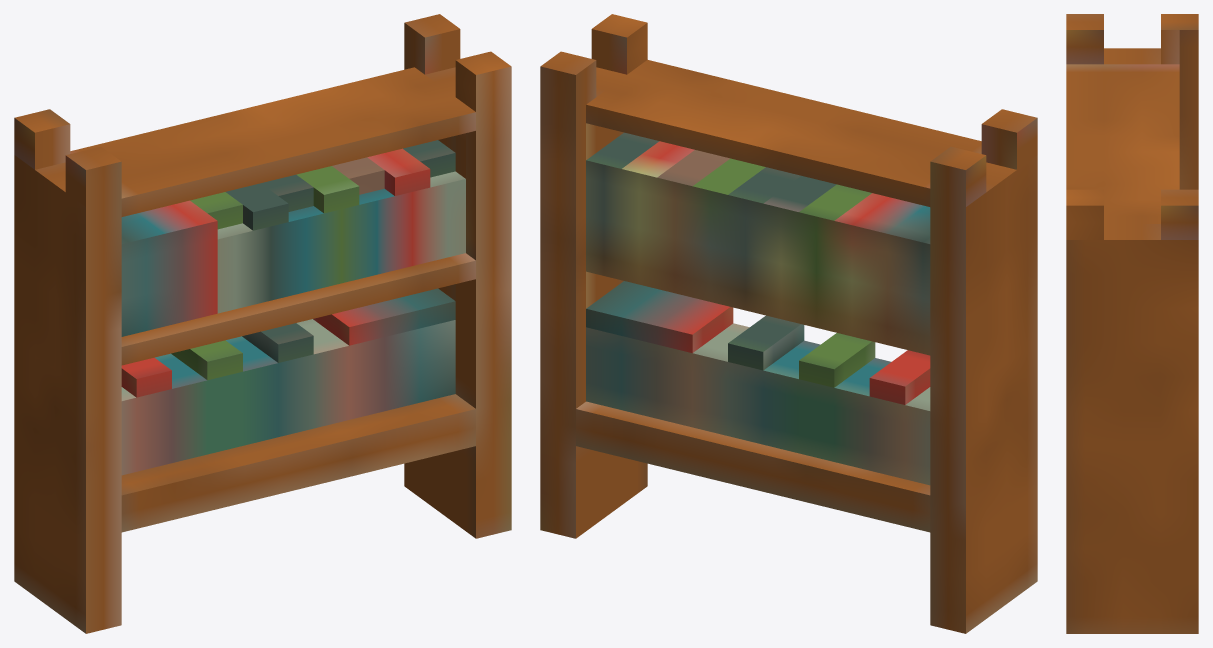
File: BookshelfHShapedDarkBrown_00.obj
The picture shows the model from 3 angles, left to right: view 1: azimuth 30°, elevation 25°; view 2: azimuth 150°, elevation 25°; view 3: azimuth 270°, elevation 25°; orthographic projection. The views are drawn at different scales.
Parts seen in each view (by area): view 1: BookshelfHShapedDarkBrown_00; view 2: BookshelfHShapedDarkBrown_00; view 3: BookshelfHShapedDarkBrown_00.
Boxes of the visible parts, <box> form: BookshelfHShapedDarkBrown_00: <box>14,14,511,633</box>; BookshelfHShapedDarkBrown_00: <box>540,14,1037,633</box>; BookshelfHShapedDarkBrown_00: <box>1066,14,1198,633</box>.
Bounding box in the file's own units: 1.2 × 1.25 × 0.35.
